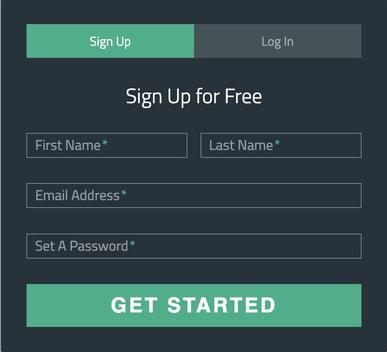button: (28, 284, 363, 328), (27, 25, 195, 60), (196, 25, 363, 60)
input: (26, 233, 364, 260), (27, 184, 363, 209), (26, 132, 191, 161), (200, 133, 362, 159)
